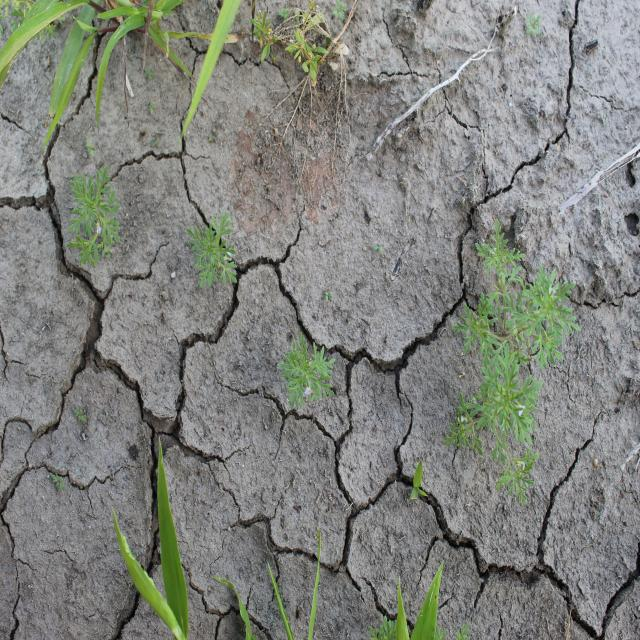Carpetweed: (247, 0, 331, 88)
Ragweed: (442, 215, 582, 508), (66, 162, 122, 270), (276, 331, 336, 413), (185, 209, 238, 291), (365, 613, 473, 639), (524, 12, 544, 40), (331, 1, 348, 23)
